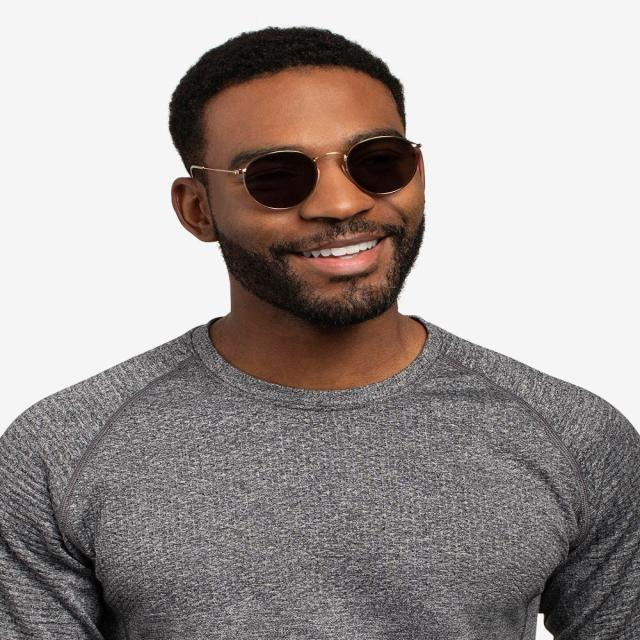2_gafas: (188, 134, 423, 211)
